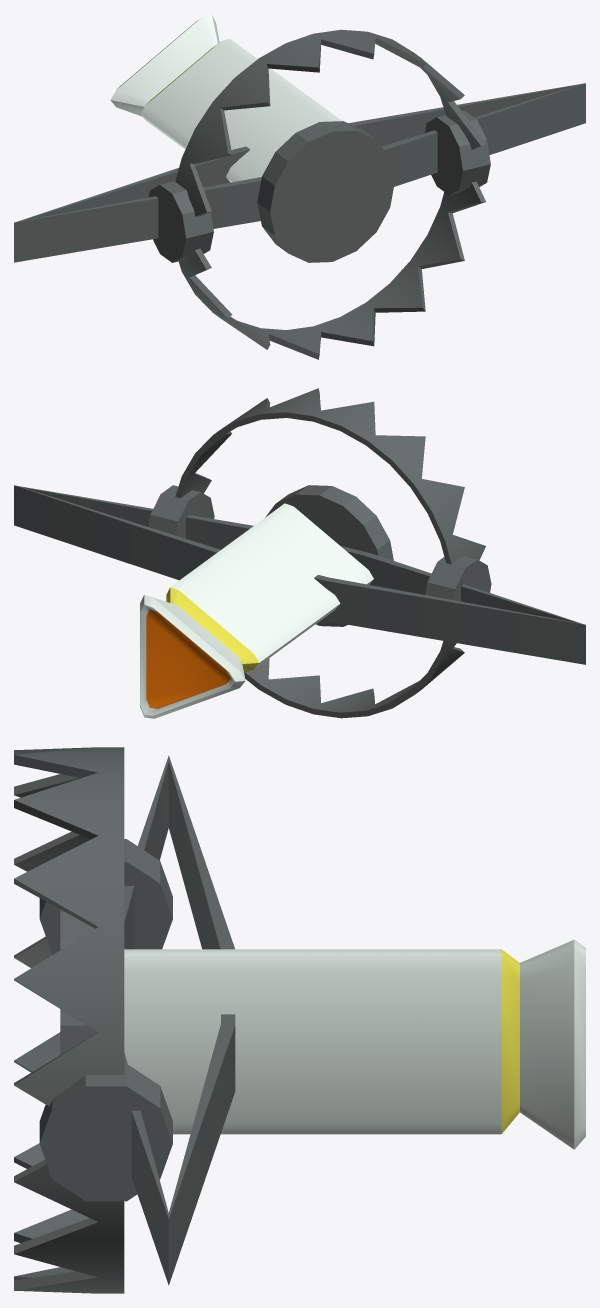
File: TrapRocket.fbx
3 views of the same model, one above another, from view 1: azimuth 30°, elevation 25°; view 2: azimuth 150°, elevation 25°; view 3: azimuth 270°, elevation 25° (orthographic). The views are drawn at different scales.
Visible parts, largest first — view 1: 실린더.003; view 2: 실린더.003; view 3: 실린더.003.
Part boxes in pixels (x1,y1,x2,y2): 실린더.003: [14, 14, 585, 359]; 실린더.003: [14, 388, 585, 718]; 실린더.003: [14, 747, 585, 1293].
Size of the model in its own units: 220 by 109 by 114.
1 material, 1 textured.
